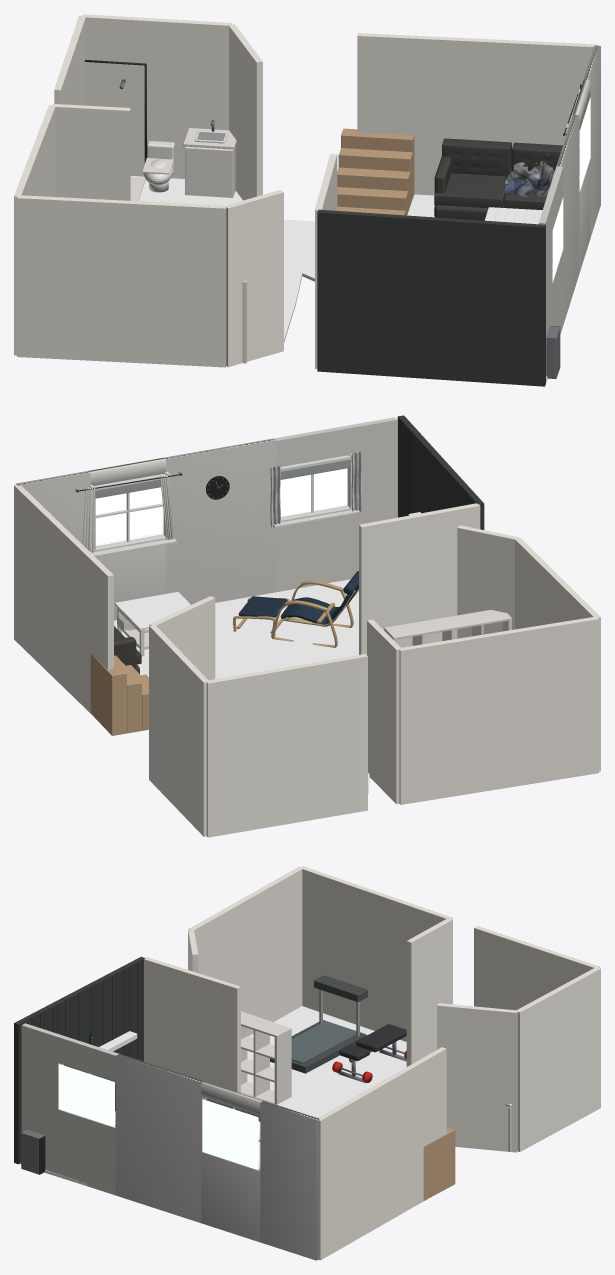
Rendered from model-7d72bae53ea7.glb.
3 views of the same model, one above another, from view 1: azimuth 30°, elevation 25°; view 2: azimuth 150°, elevation 25°; view 3: azimuth 270°, elevation 25° (orthographic). The views are drawn at different scales.
Visible parts, largest first — view 1: source-wall-8-replacement, home-lower-level_observed_wall_0_panel, home-lower-level_observed_wall_6_panel, home-lower-level_observed_wall_4_panel, home-lower-level_observed_wall_10_panel, home-lower-level_observed_wall_2_panel, home-lower-level_observed_wall_5_panel, home-lower-level_independently_traced_floor, actual-second-window-wall-between-windows, home-lower-level_observed_wall_1_panel, home-lower-level__bath_vanity__cabinet, home-lower-level__lounge_sofa__back_0__source_closed (+23 smaller); view 2: home-lower-level_observed_wall_1_panel, home-lower-level_observed_wall_3_panel, actual-second-window-wall-between-windows, home-lower-level_observed_wall_6_panel, home-lower-level_observed_wall_9_panel, home-lower-level_observed_wall_4_panel, home-lower-level_independently_traced_floor, home-lower-level_observed_wall_10_panel, home-lower-level_observed_wall_2_panel, source-wall-8-replacement, actual-window-cutout-wall-below, actual-window-cutout-wall-left (+18 smaller); view 3: home-lower-level_observed_wall_6_panel, home-lower-level_observed_wall_1_panel, actual-second-window-wall-between-windows, home-lower-level_observed_wall_4_panel, home-lower-level_observed_wall_0_panel, home-lower-level_observed_wall_5_panel, home-lower-level_observed_wall_9_panel, actual-second-window-wall-rightof-second, source-wall-8-replacement, home-lower-level_observed_wall_3_panel, home-lower-level_independently_traced_floor, home-lower-level_observed_wall_2_panel (+16 smaller).
Boxes of the visible parts, left/top/right/bottom form: source-wall-8-replacement: left=317, top=209, right=545, bottom=386; home-lower-level_observed_wall_0_panel: left=17, top=195, right=226, bottom=367; home-lower-level_observed_wall_6_panel: left=357, top=33, right=598, bottom=195; home-lower-level_observed_wall_4_panel: left=83, top=14, right=231, bottom=178; home-lower-level_observed_wall_10_panel: left=226, top=190, right=283, bottom=367; home-lower-level_observed_wall_2_panel: left=52, top=104, right=130, bottom=200; home-lower-level_observed_wall_5_panel: left=229, top=24, right=262, bottom=200; home-lower-level_independently_traced_floor: left=130, top=176, right=547, bottom=382; actual-second-window-wall-between-windows: left=556, top=115, right=579, bottom=324; home-lower-level_observed_wall_1_panel: left=14, top=105, right=55, bottom=355; home-lower-level__bath_vanity__cabinet: left=185, top=146, right=235, bottom=197; home-lower-level__lounge_sofa__back_0__source_closed: left=442, top=138, right=511, bottom=176; home-lower-level_observed_wall_1_panel: left=399, top=617, right=598, bottom=804; home-lower-level_observed_wall_3_panel: left=206, top=654, right=367, bottom=837; actual-second-window-wall-between-windows: left=164, top=438, right=276, bottom=604; home-lower-level_observed_wall_6_panel: left=14, top=485, right=113, bottom=713; home-lower-level_observed_wall_9_panel: left=359, top=503, right=480, bottom=654; home-lower-level_observed_wall_4_panel: left=149, top=624, right=207, bottom=836; home-lower-level_independently_traced_floor: left=114, top=579, right=369, bottom=793; home-lower-level_observed_wall_10_panel: left=457, top=525, right=518, bottom=638; home-lower-level_observed_wall_2_panel: left=367, top=619, right=401, bottom=803; source-wall-8-replacement: left=397, top=415, right=484, bottom=529; actual-window-cutout-wall-below: left=276, top=505, right=350, bottom=592; actual-window-cutout-wall-left: left=348, top=417, right=397, bottom=579; home-lower-level_observed_wall_6_panel: left=318, top=1047, right=446, bottom=1260; home-lower-level_observed_wall_1_panel: left=302, top=866, right=452, bottom=1041; actual-second-window-wall-between-windows: left=115, top=1054, right=204, bottom=1222; home-lower-level_observed_wall_4_panel: left=515, top=967, right=600, bottom=1151; home-lower-level_observed_wall_0_panel: left=188, top=866, right=303, bottom=1036; home-lower-level_observed_wall_5_panel: left=437, top=1003, right=517, bottom=1152; home-lower-level_observed_wall_9_panel: left=144, top=957, right=240, bottom=1092; actual-second-window-wall-rightof-second: left=260, top=1101, right=319, bottom=1260; source-wall-8-replacement: left=14, top=956, right=145, bottom=1164; home-lower-level_observed_wall_3_panel: left=474, top=926, right=600, bottom=1010; home-lower-level_independently_traced_floor: left=21, top=1006, right=406, bottom=1186; home-lower-level_observed_wall_2_panel: left=406, top=918, right=452, bottom=1066.
Bounding box in the file's own units: 8.99 × 2.3 × 8.76.
